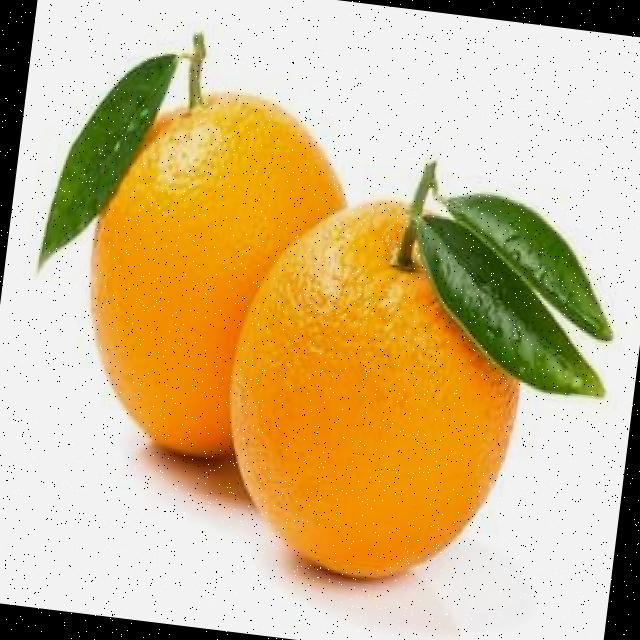Ripe: (209, 188, 540, 591), (64, 73, 376, 474)
